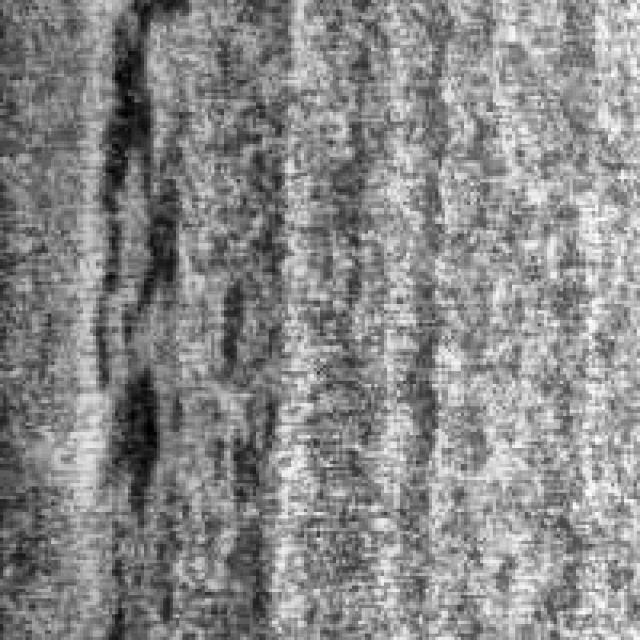Patches: (68, 0, 182, 547)
